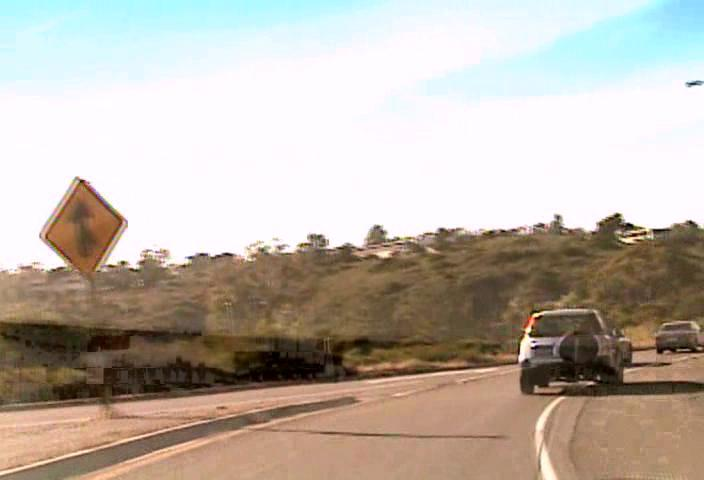merge: (40, 175, 127, 276)
